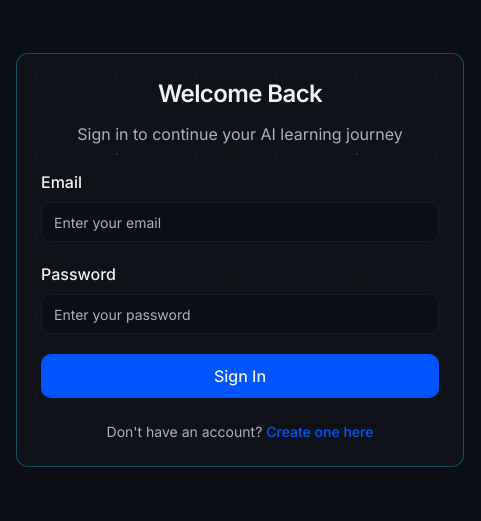
<LoginForm /> › shows error on signIn failure
The width and height of the screenshot is (481, 521).
Type "e@x.com" into the field labelled "Email" at (240, 222), box [41,202,439,242]
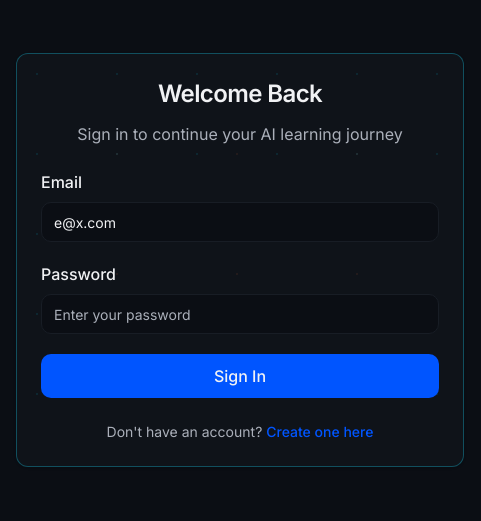
Type "wrongpass" into the password field labelled "Password" at (240, 314), box [41,294,439,334]
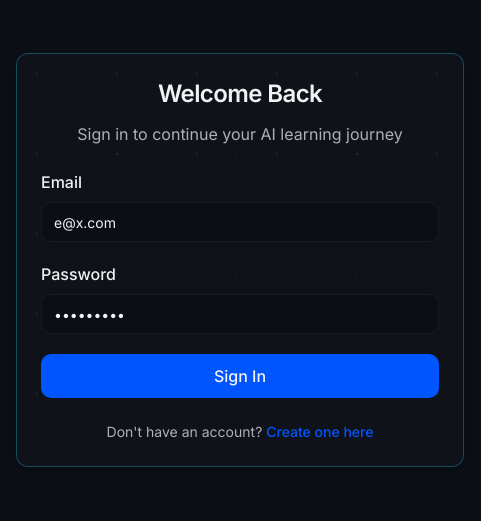
Click the button "Sign In" at (240, 376), box [41,354,439,398]
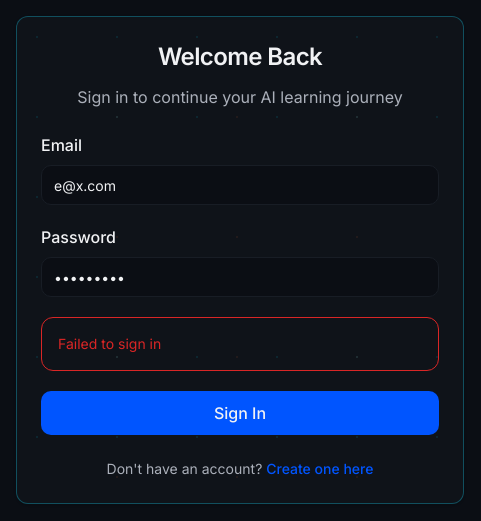
Result: the message "Failed to sign in" is shown at [41,317,439,371]
